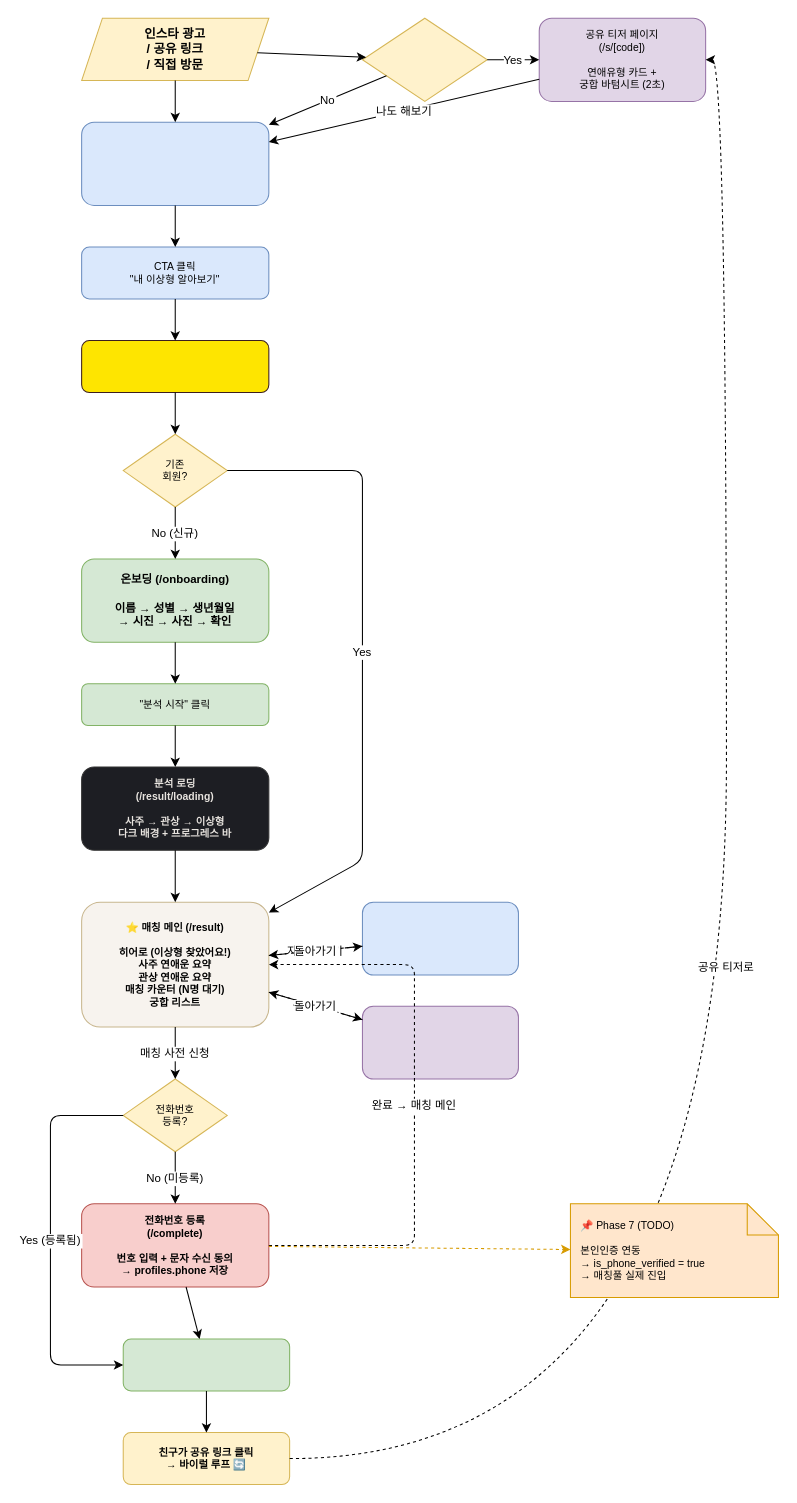
Some shapes in this 797 by 1503 pixel diagram are drawn without their labels. Each missing label, with the centre of its shape:
공유 링크로 유입?: (x=424, y=59)
공유하기 (카카오톡 / 링크복사): (x=206, y=1364)
궁합 페이지 (/result/compat) 궁합 리스트 + 상세시트: (x=439, y=1042)
랜딩 페이지 (/) "사주랑 관상으로 내 이상형 찾기": (x=175, y=163)
사주 & 관상 상세 (/result/detail) [사주] [관상] 2탭: (x=439, y=938)
카카오 로그인 (OAuth): (x=175, y=366)
